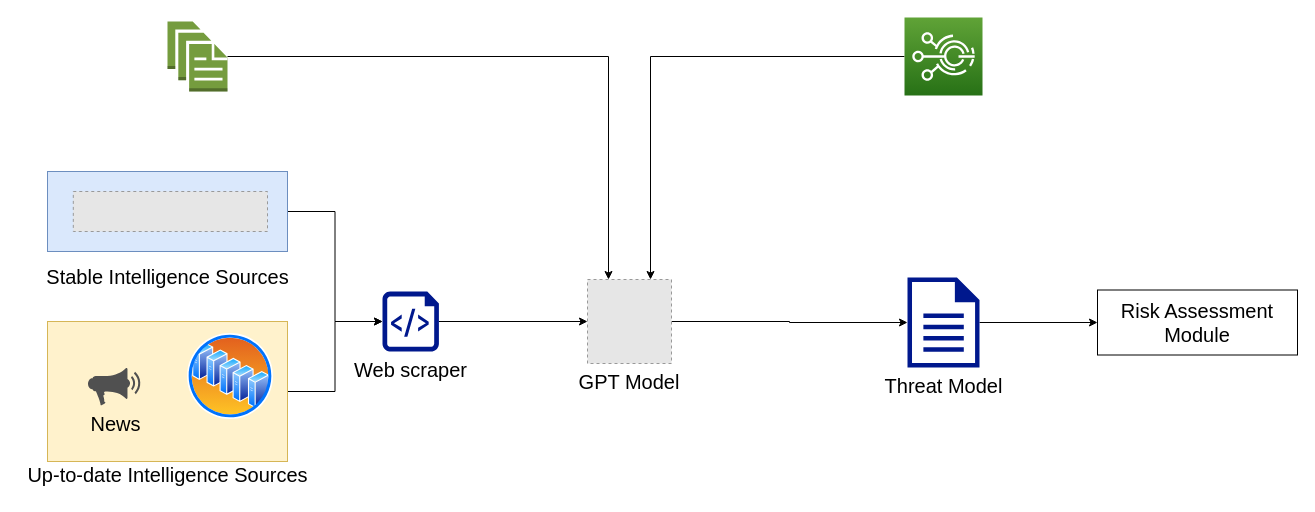
This 1315x512 diagram has some shape labels left out. Grey dashed boxes stand in for pictures. The box of each missing label's shape, as (x1, y1, x2, y2) in pixels:
Datasheets: (166, 20, 228, 92)
Event Triggers: (904, 16, 982, 96)
Forums: (187, 333, 273, 419)
